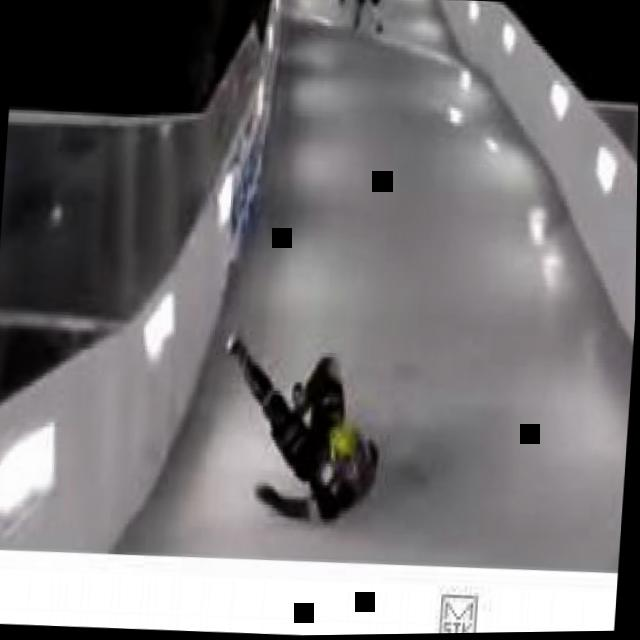Fall-Detected: (212, 298, 386, 536)
